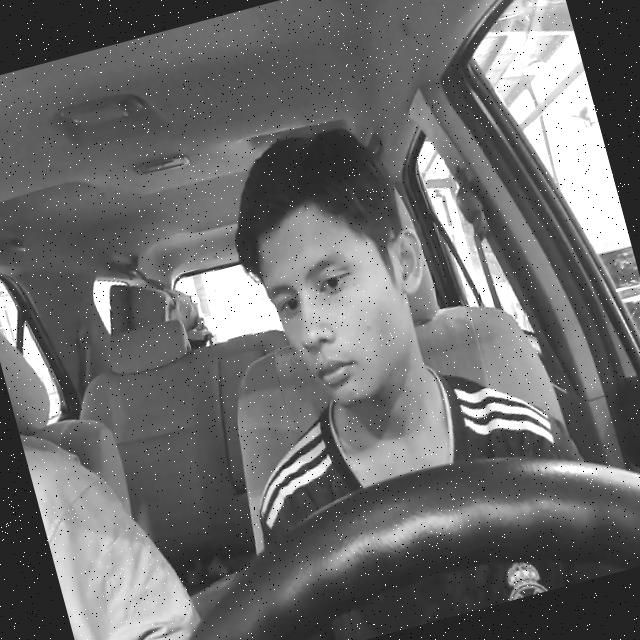seeing_left: (238, 168, 457, 420)
